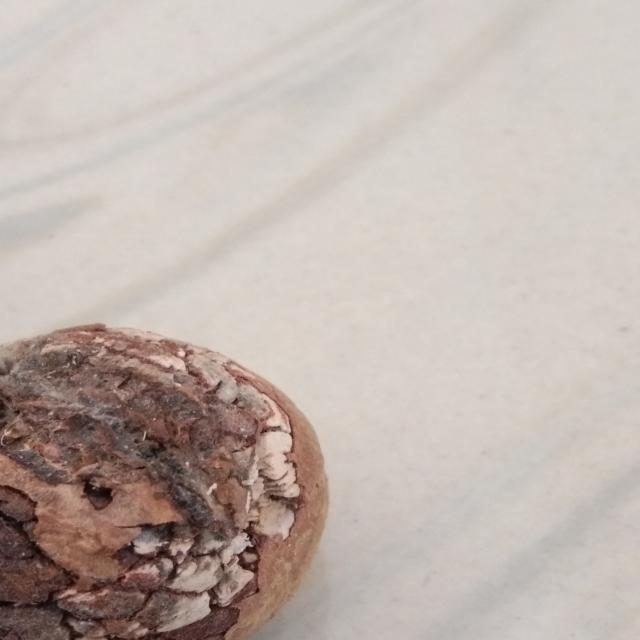karigot: (0, 318, 356, 640)
